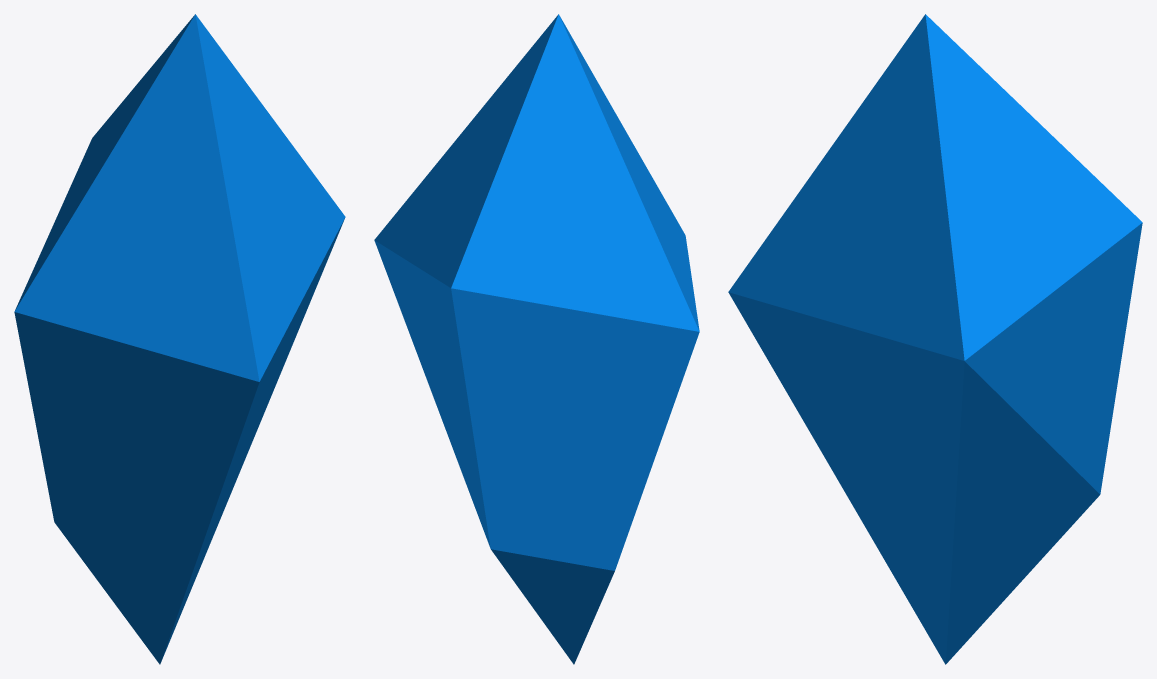
File: Crystal-Item06.fbx
The picture shows the model from 3 angles, left to right: view 1: azimuth 30°, elevation 25°; view 2: azimuth 150°, elevation 25°; view 3: azimuth 270°, elevation 25°; orthographic projection. The views are drawn at different scales.
Parts seen in each view (by area): view 1: Crystal-Item06; view 2: Crystal-Item06; view 3: Crystal-Item06.
Part boxes in pixels (box(x1,y1,x2,y2)): Crystal-Item06: box(14, 14, 345, 664); Crystal-Item06: box(374, 14, 699, 664); Crystal-Item06: box(728, 14, 1142, 664).
Bounding box in the file's own units: 42.75 × 80.23 × 45.41.
